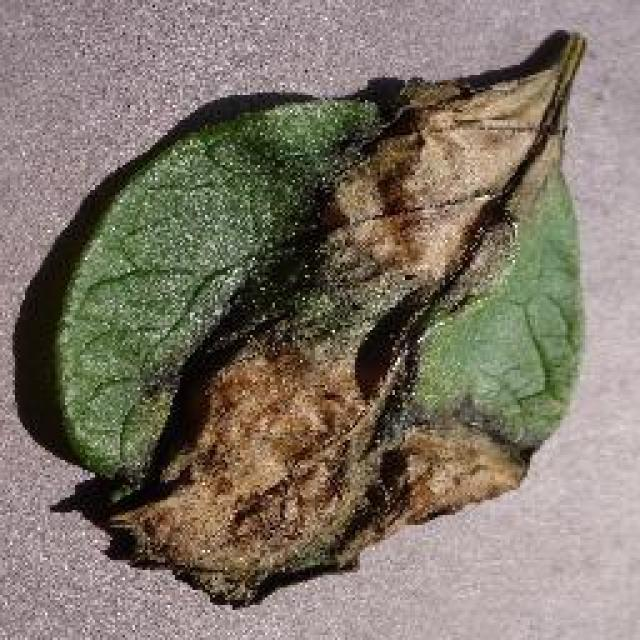Potato___Late_blight: (50, 28, 592, 610)
